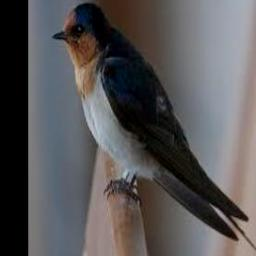Swallow: (52, 1, 256, 256)
